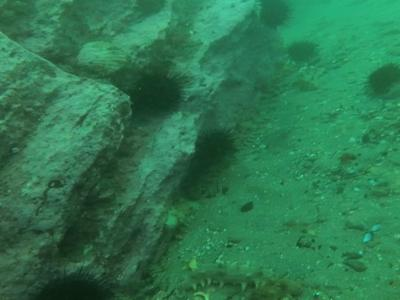holothurian: (172, 257, 274, 295)
scallop: (74, 39, 125, 77)
urchin: (127, 66, 189, 119), (34, 266, 114, 298), (194, 127, 237, 168), (364, 59, 398, 100), (260, 2, 288, 27), (290, 42, 318, 63)
